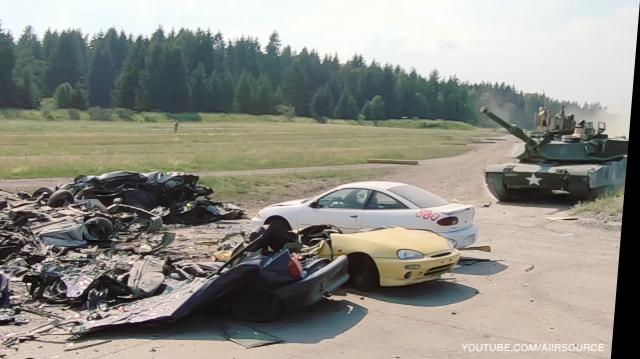tank: (491, 135, 626, 198)
